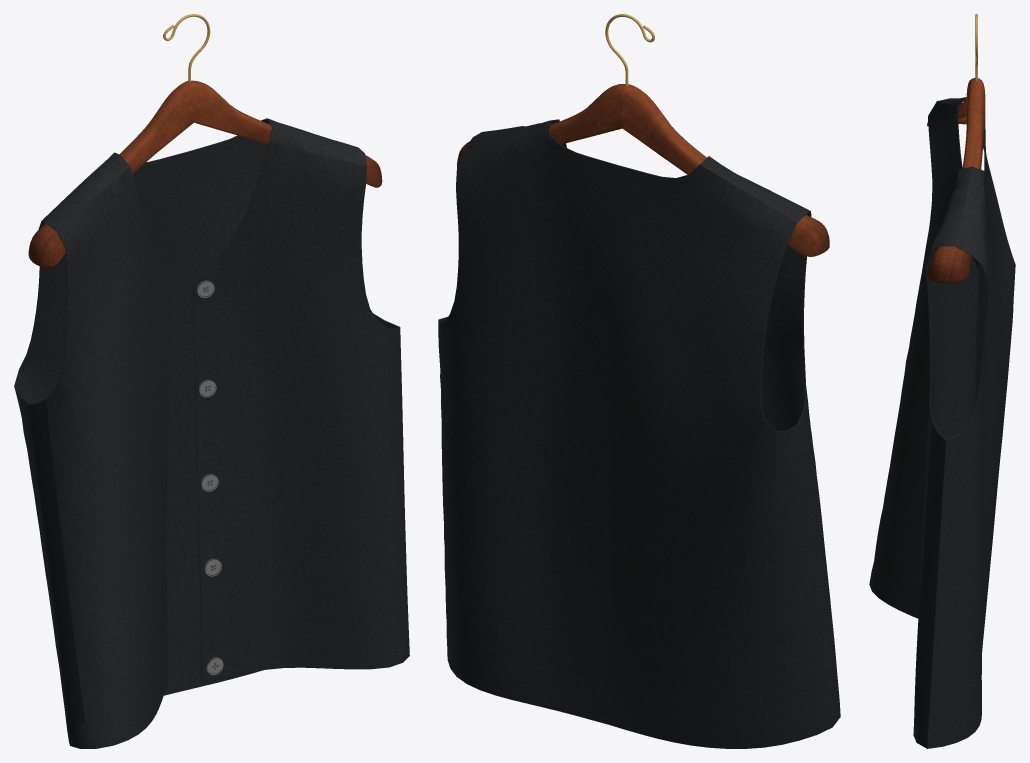
The model's file is FLG_13_04_5.zprj.fbx.
The picture shows the model from 3 angles, left to right: view 1: azimuth 30°, elevation 25°; view 2: azimuth 150°, elevation 25°; view 3: azimuth 270°, elevation 25°; orthographic projection. The views are drawn at different scales.
Visible parts, largest first — view 1: FLG_13_04_5.zprj, Obj_Avatar_Shape; view 2: FLG_13_04_5.zprj, Obj_Avatar_Shape; view 3: FLG_13_04_5.zprj, Obj_Avatar_Shape.
Boxes of the visible parts, <box> form: FLG_13_04_5.zprj: <box>14,118,409,748</box>; Obj_Avatar_Shape: <box>28,14,382,267</box>; FLG_13_04_5.zprj: <box>438,119,840,748</box>; Obj_Avatar_Shape: <box>457,14,829,256</box>; FLG_13_04_5.zprj: <box>869,97,1015,748</box>; Obj_Avatar_Shape: <box>927,14,985,282</box>.
Size of the model in its own units: 45.91 by 80.88 by 16.51.
